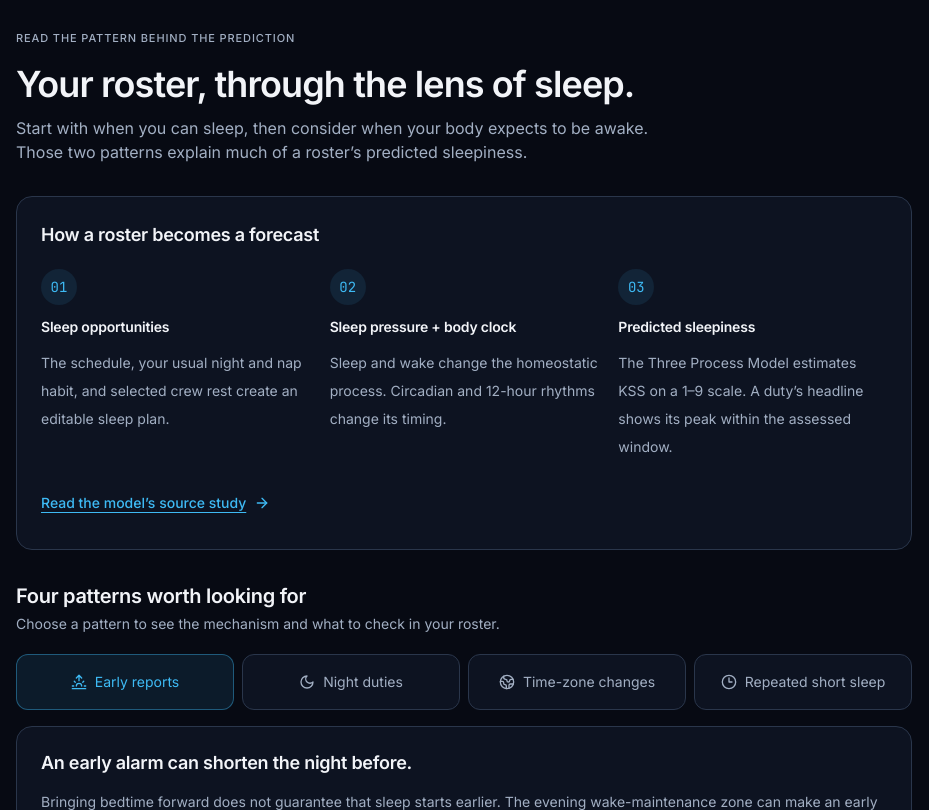
Test: sleep science › changes the explanation and linked evidence with the selected roster pattern
The image size is (929, 810).
Click the button "Time-zone changes" at [577, 682], box [468, 654, 686, 710]
(page scrolled)
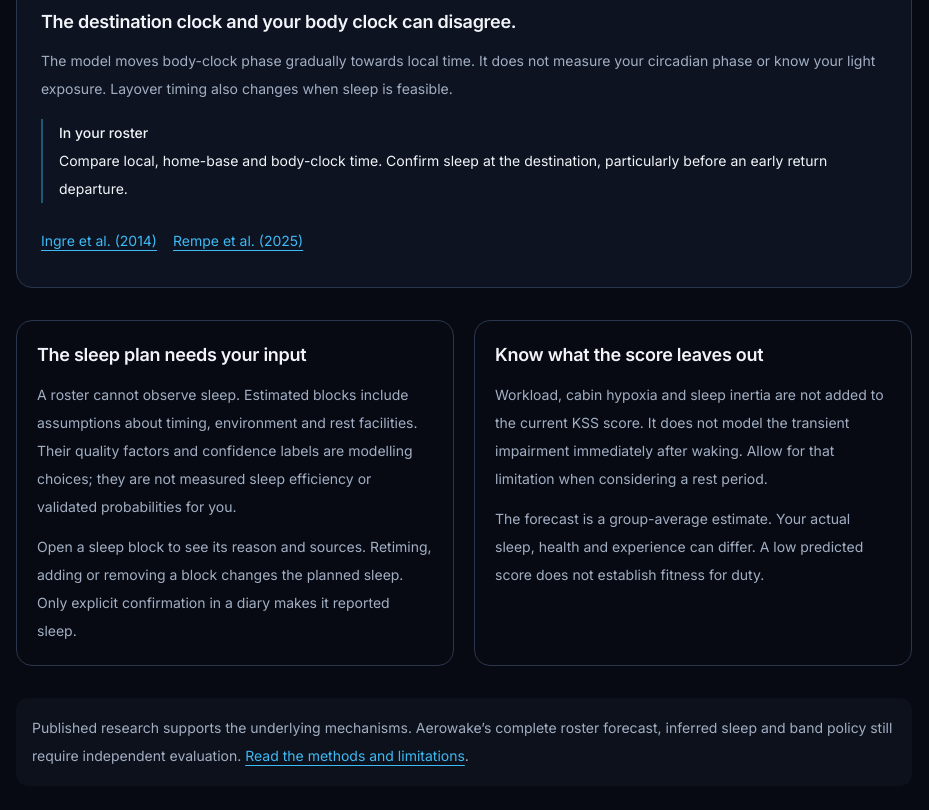
Check: the text "quality factors and confidence labels are modelling choices" is shown, box [37, 386, 418, 515]
Check: the heading "The destination clock and your body clock can disagree." is shown, box [41, 11, 516, 32]
